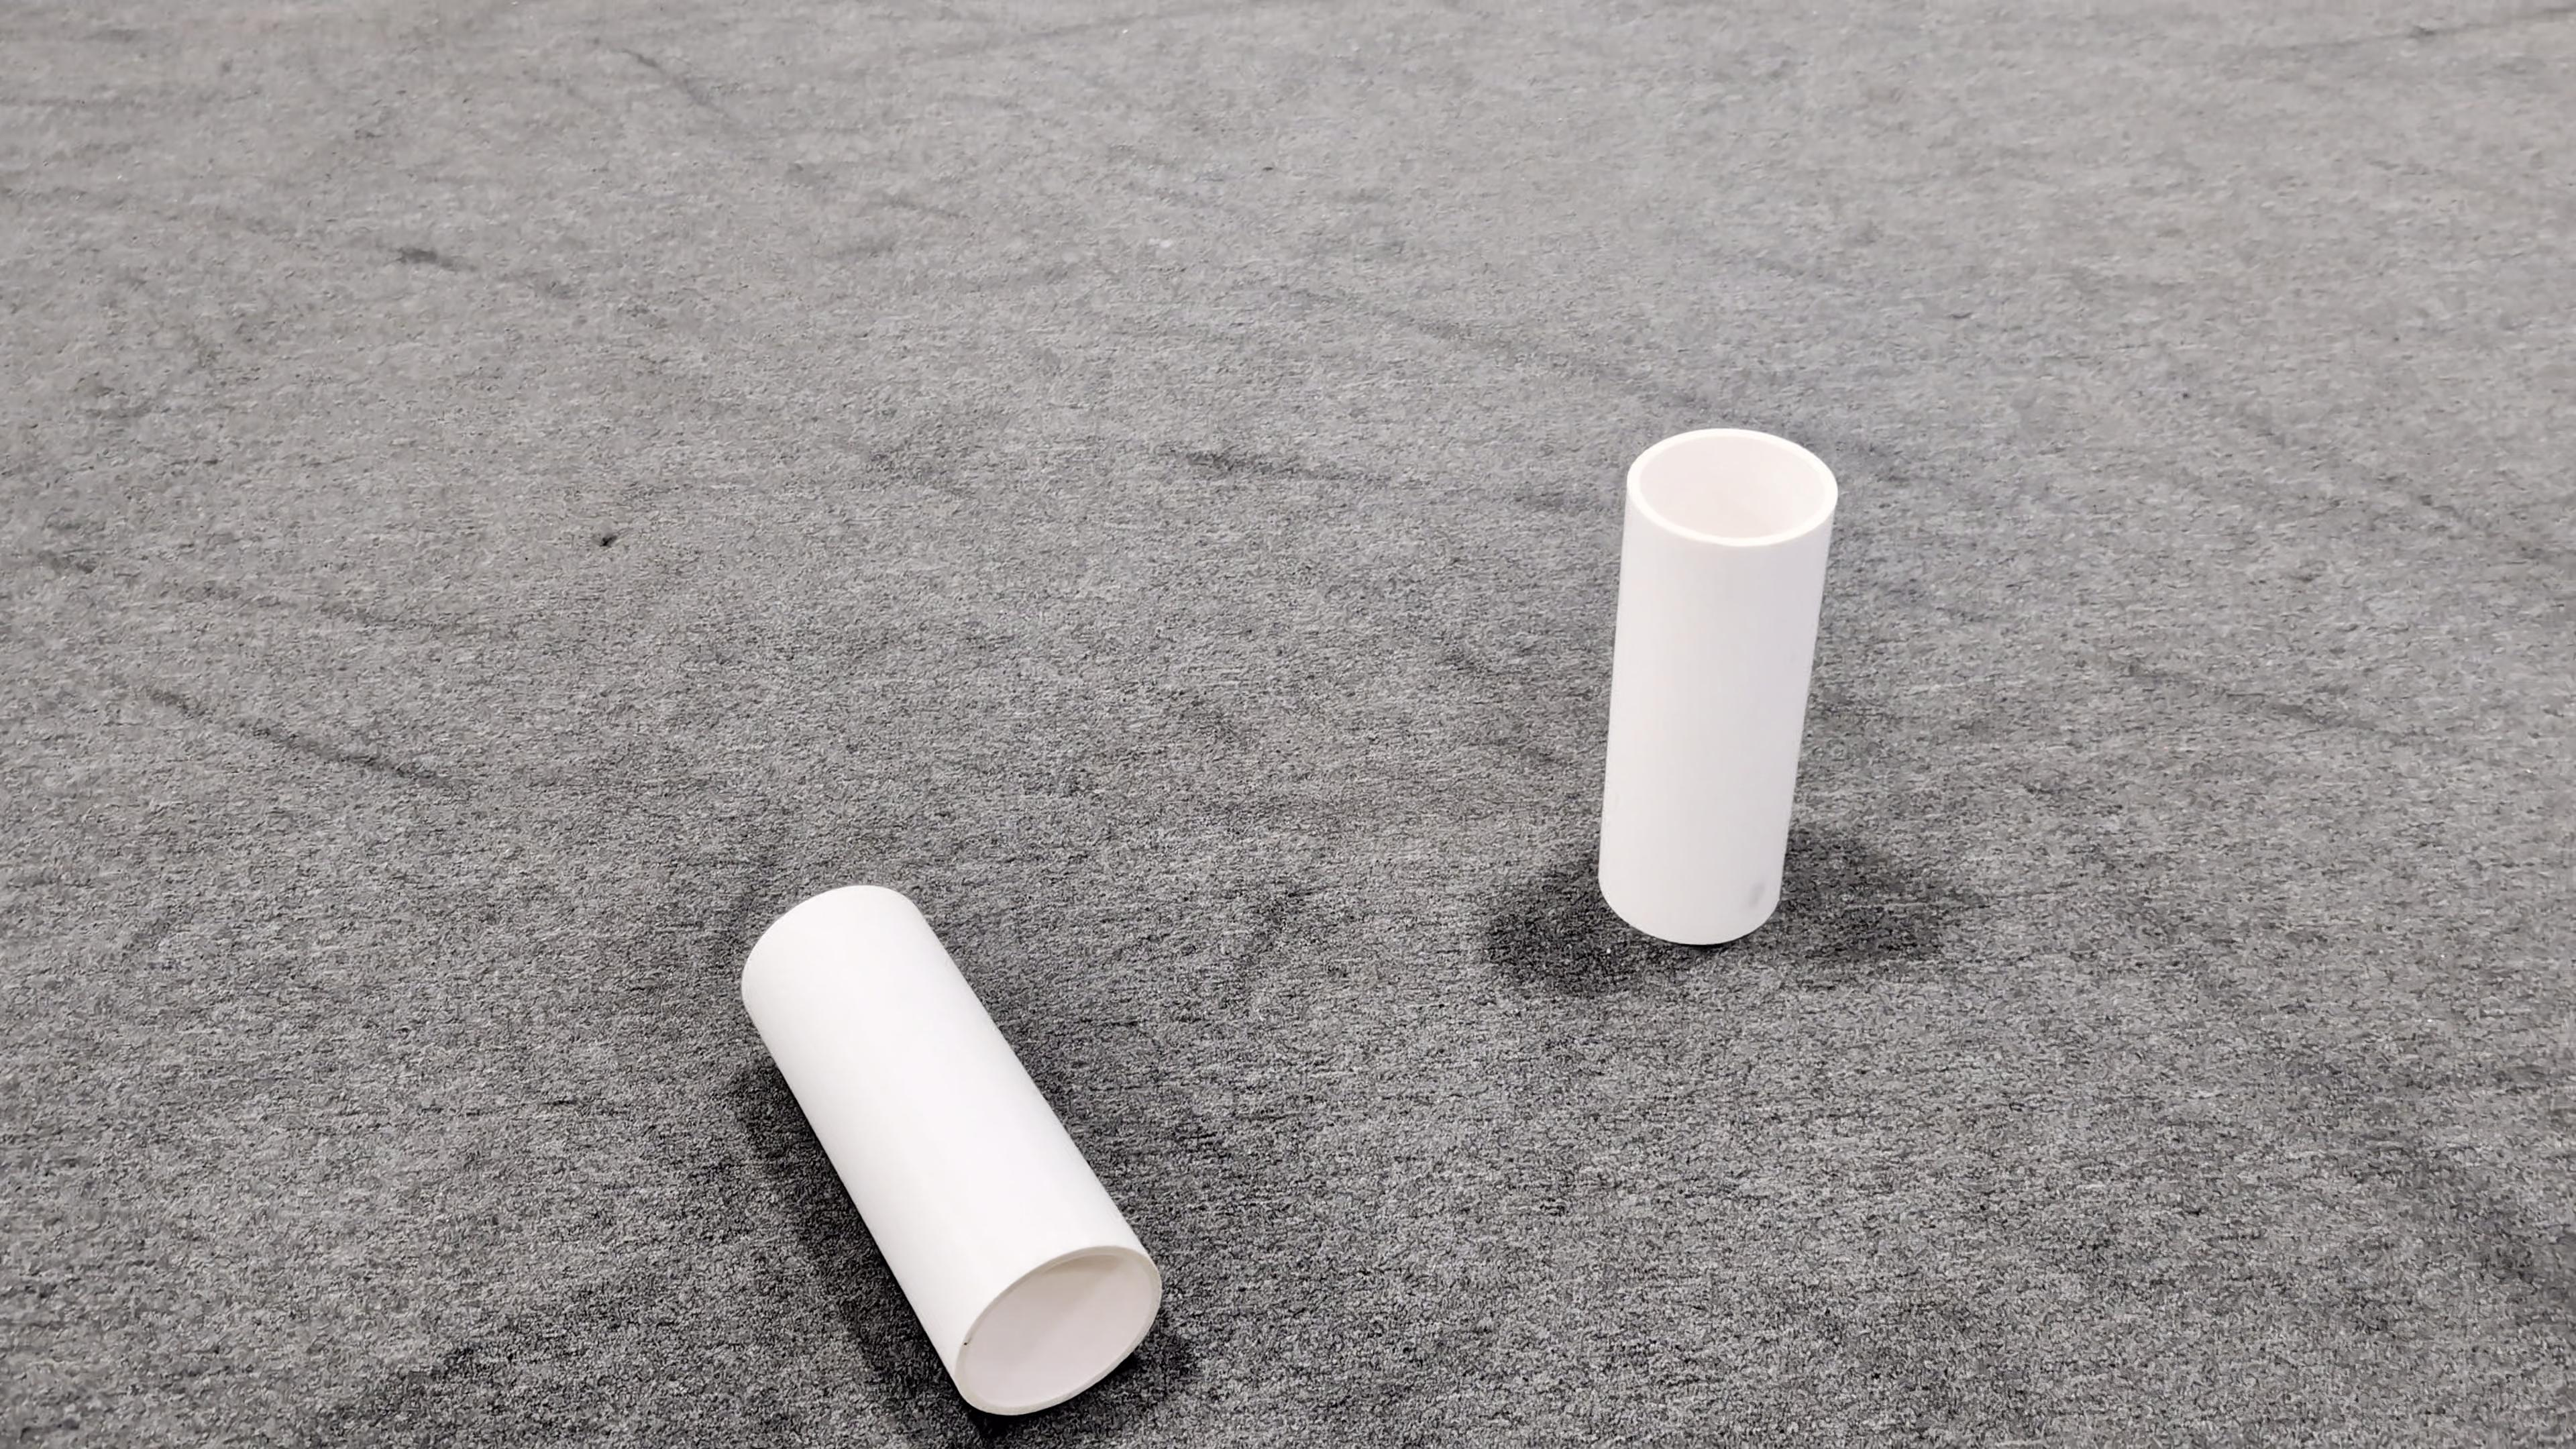coral: (738, 878, 1166, 1414), (1591, 425, 1840, 943)
